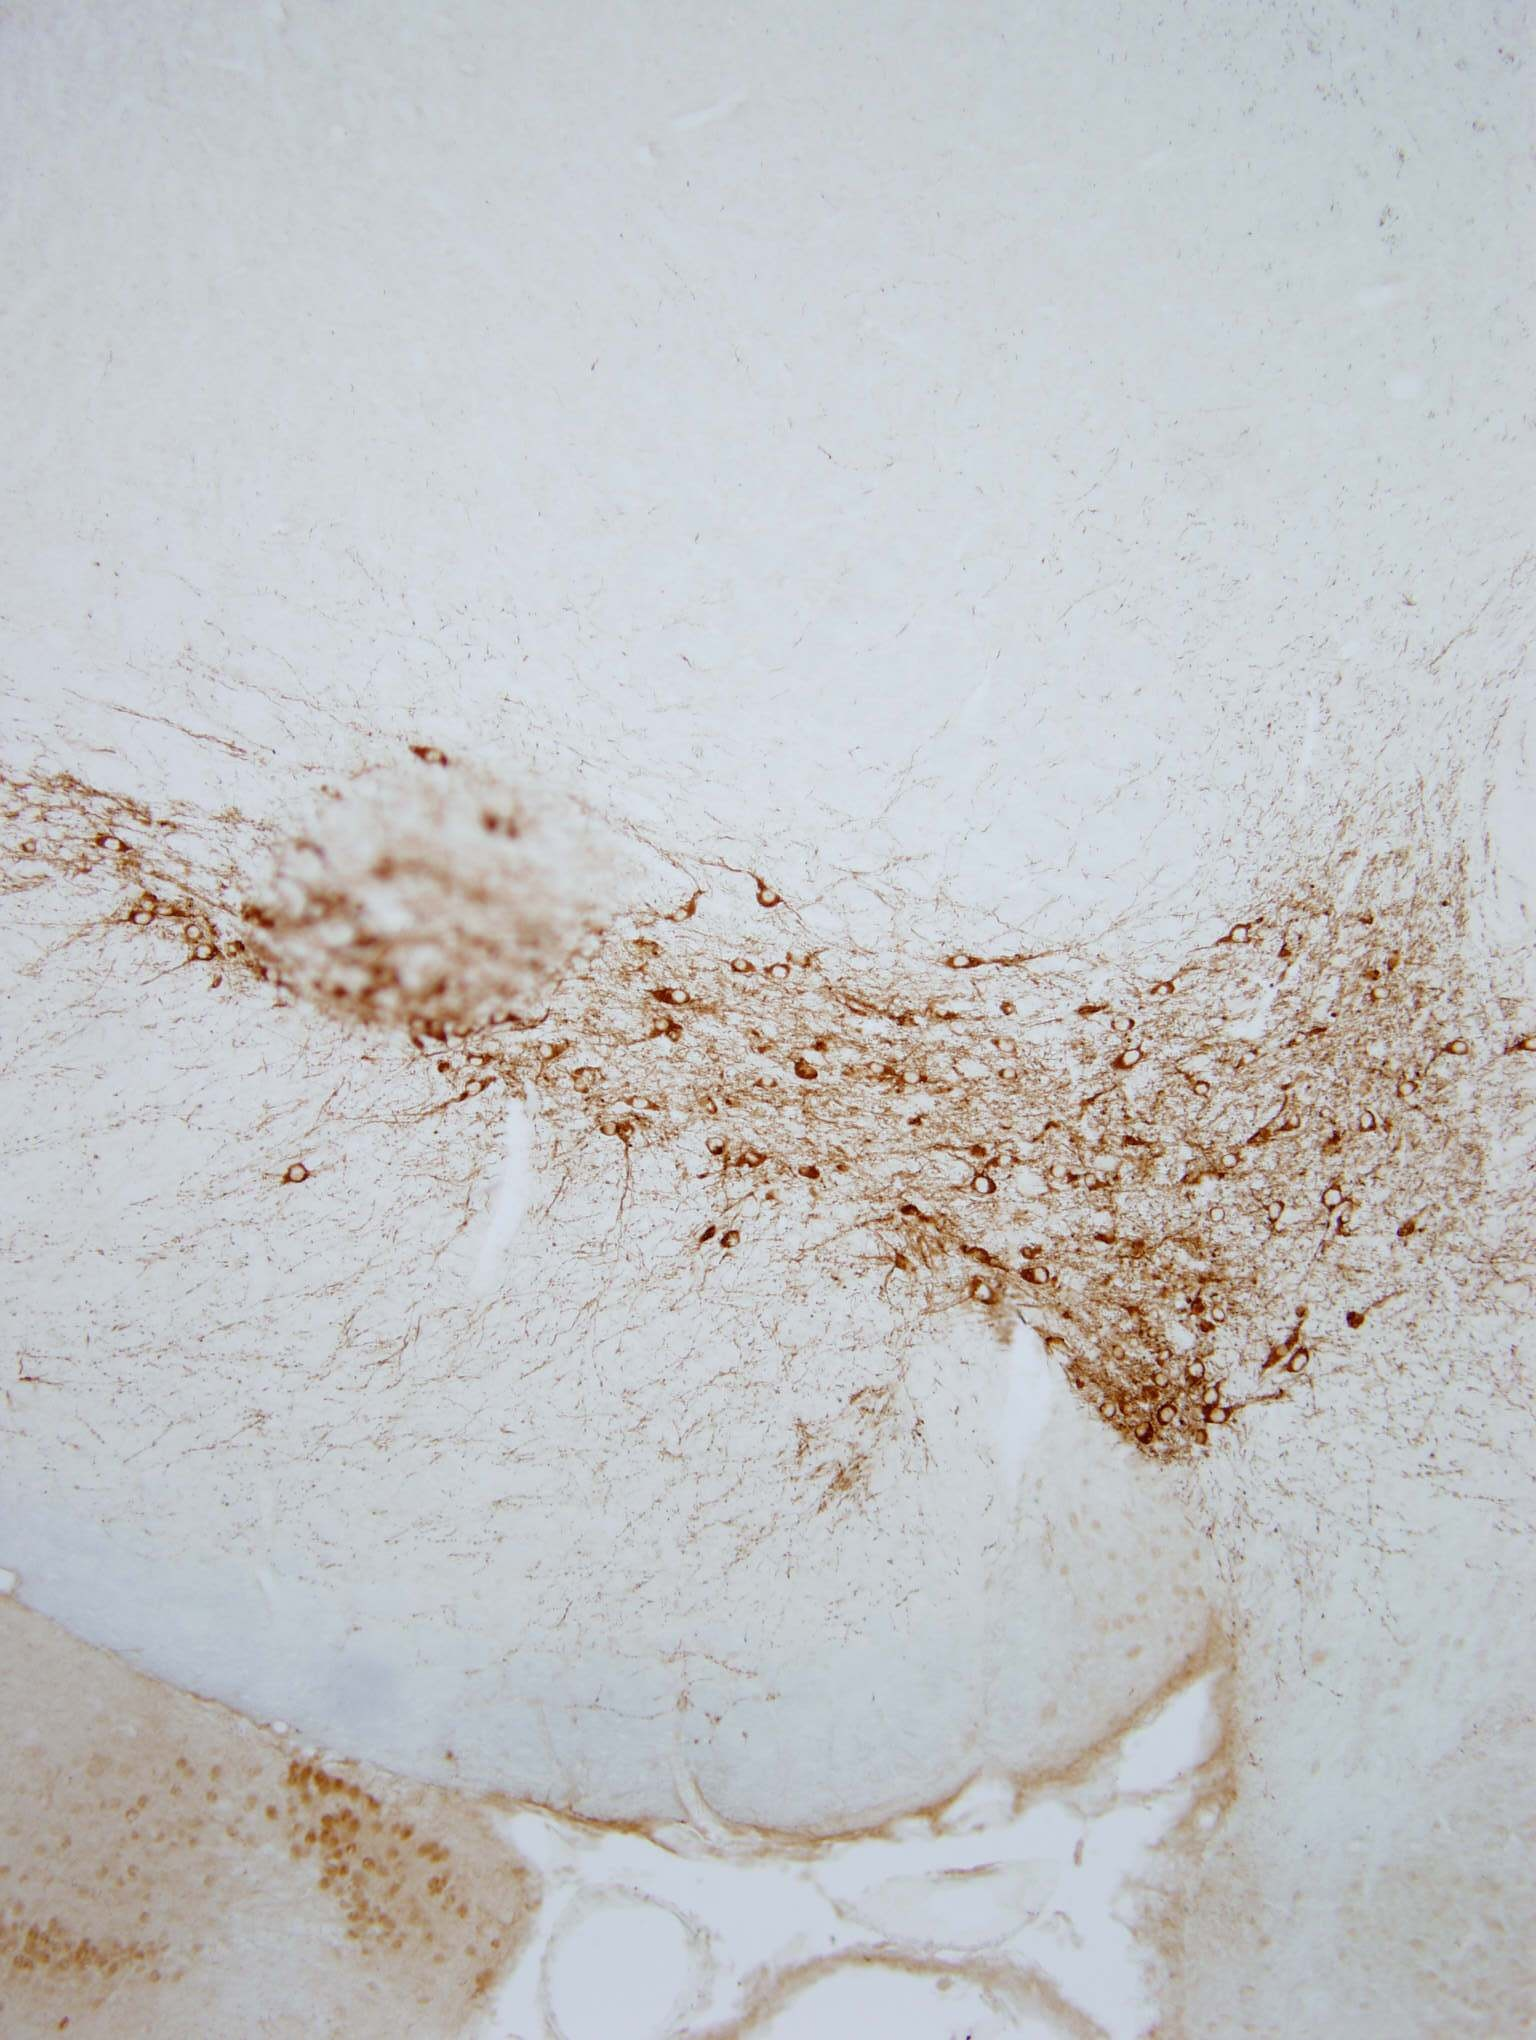neuron: (1221, 914, 1258, 951), (749, 1064, 786, 1101), (750, 876, 787, 913), (1018, 1256, 1054, 1293), (1105, 1005, 1141, 1042), (1113, 1042, 1150, 1077), (1128, 1418, 1163, 1455), (1260, 1193, 1296, 1230), (1276, 1106, 1312, 1143), (1283, 1342, 1320, 1377), (1284, 1019, 1320, 1056), (1318, 1180, 1354, 1218), (1439, 1030, 1476, 1066), (281, 1156, 316, 1193), (534, 1034, 570, 1071), (624, 1084, 660, 1121), (655, 977, 691, 1014), (666, 892, 703, 927), (765, 951, 800, 989), (963, 1277, 1000, 1313), (97, 822, 132, 860), (1179, 1351, 1215, 1387), (1200, 1400, 1236, 1435), (1233, 1040, 1268, 1076), (187, 935, 223, 971), (416, 737, 452, 772), (736, 1142, 771, 1177), (897, 1058, 933, 1093), (945, 943, 981, 979), (966, 1168, 1002, 1203), (991, 1142, 1026, 1177), (1097, 1398, 1121, 1422), (1105, 1340, 1129, 1364), (1125, 1301, 1149, 1326), (1150, 1368, 1175, 1392), (1155, 1347, 1179, 1371), (1157, 1403, 1181, 1427), (1192, 1076, 1217, 1100), (1200, 1385, 1225, 1409), (1208, 1303, 1233, 1327), (1220, 1148, 1244, 1172), (131, 906, 155, 930), (1357, 1110, 1381, 1134), (1370, 982, 1394, 1006), (137, 893, 161, 918), (1397, 1077, 1421, 1101), (153, 898, 177, 922), (182, 919, 207, 943), (19, 835, 44, 860), (468, 1048, 492, 1072), (570, 1072, 594, 1097), (599, 1118, 623, 1142), (650, 1013, 674, 1037), (733, 955, 757, 979), (866, 1055, 891, 1079), (999, 1061, 1023, 1085), (1049, 1163, 1073, 1185), (1083, 1171, 1105, 1195), (1154, 977, 1176, 1001), (1270, 1338, 1292, 1363), (465, 1076, 487, 1100), (705, 1134, 729, 1156), (936, 998, 958, 1022), (999, 1034, 1021, 1056)
